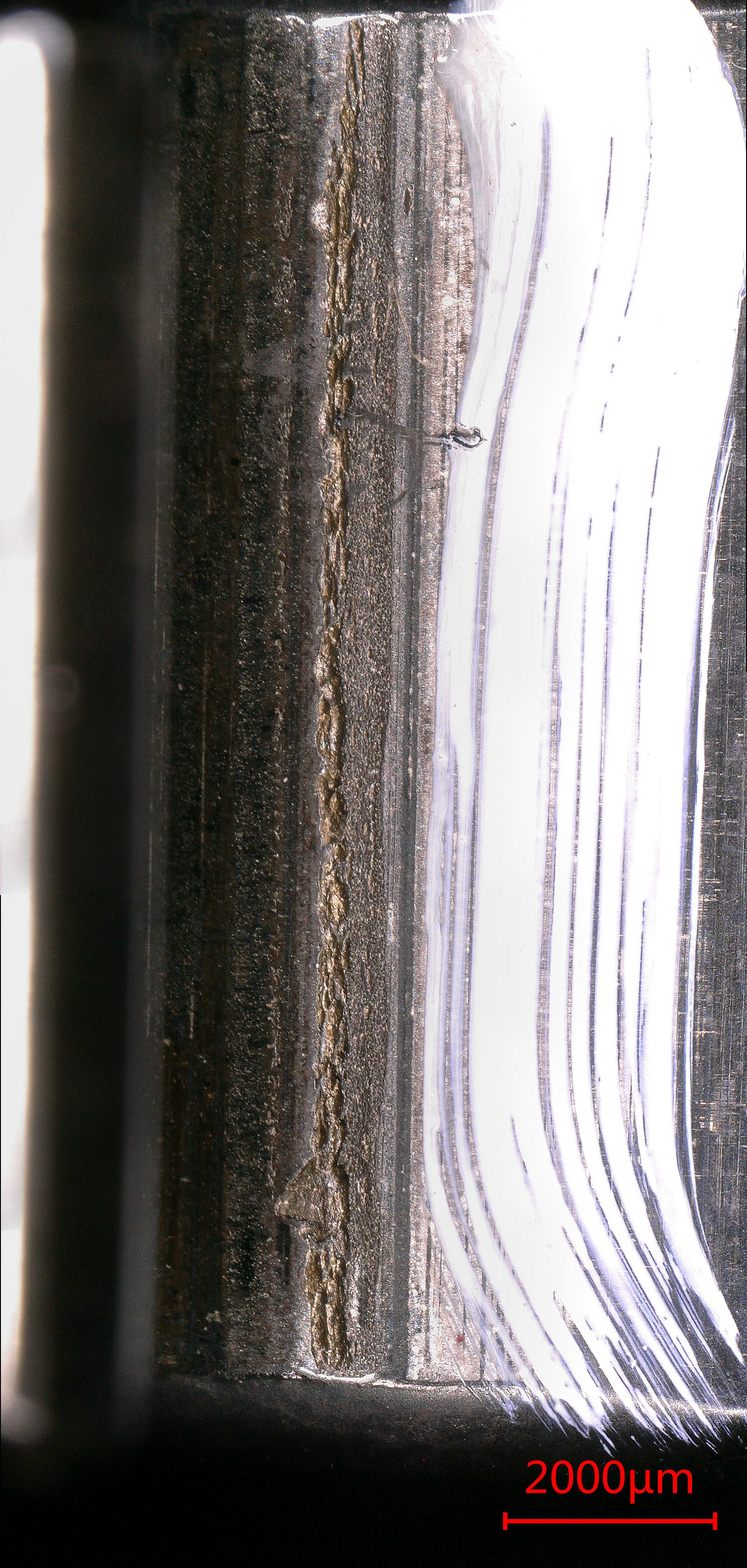Abrasion: (156, 10, 744, 1383)
